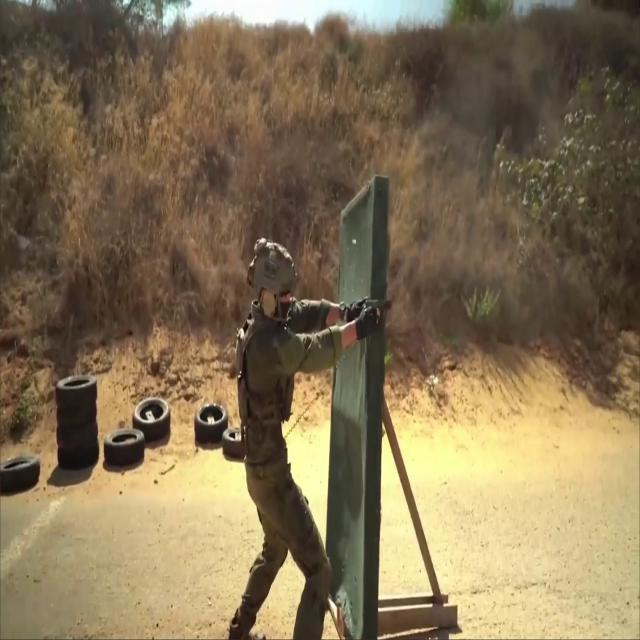gun: (361, 297, 394, 331)
